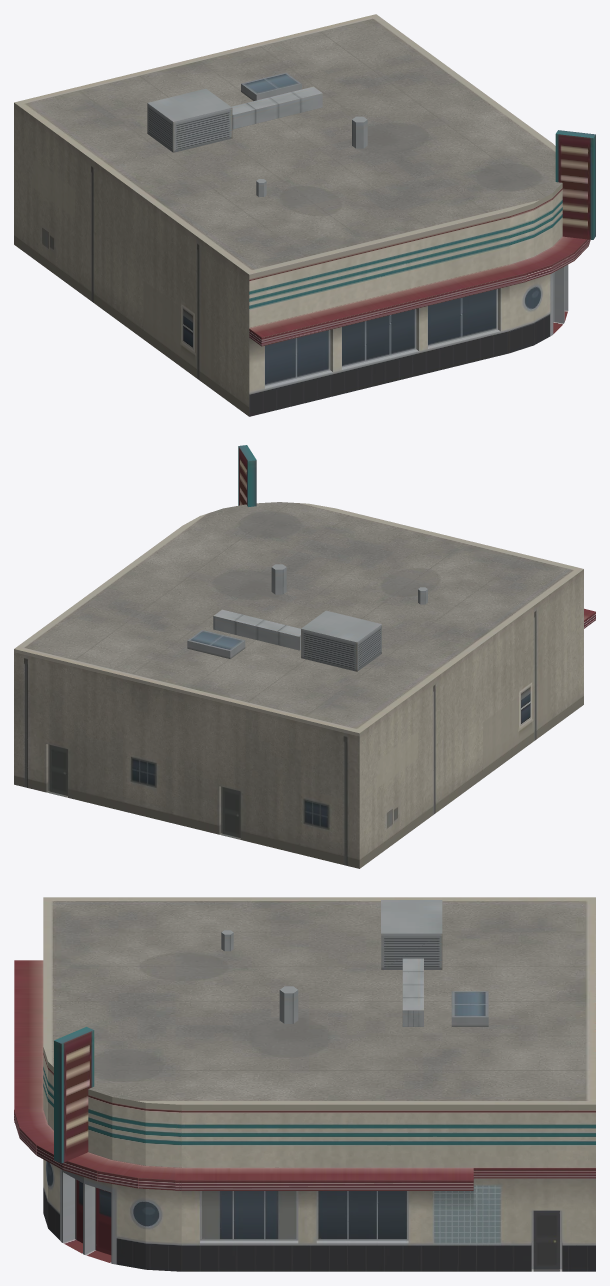
The model's file is sf_lowrise_c.glb.
3 renders of one model, top to bottom at view 1: azimuth 30°, elevation 25°; view 2: azimuth 150°, elevation 25°; view 3: azimuth 270°, elevation 25°, orthographic. The views are drawn at different scales.
Parts seen in each view (by area): view 1: sf_lowrise_c; view 2: sf_lowrise_c; view 3: sf_lowrise_c.
Part boxes in pixels (x1,y1,x2,y2): sf_lowrise_c: (14,14,595,416); sf_lowrise_c: (14,445,595,868); sf_lowrise_c: (14,897,595,1271).
Size of the model in its own units: 16.96 by 8.03 by 18.96.
1 material, 1 textured.
